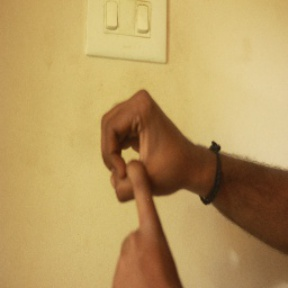Q: (86, 88, 197, 288)
